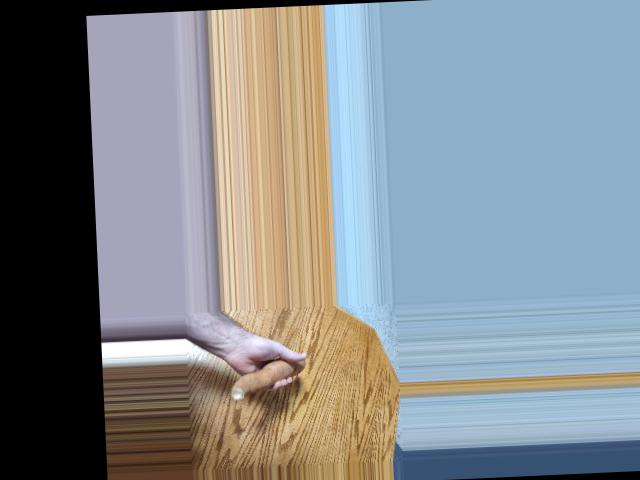sweet_potato: (225, 355, 305, 399)
